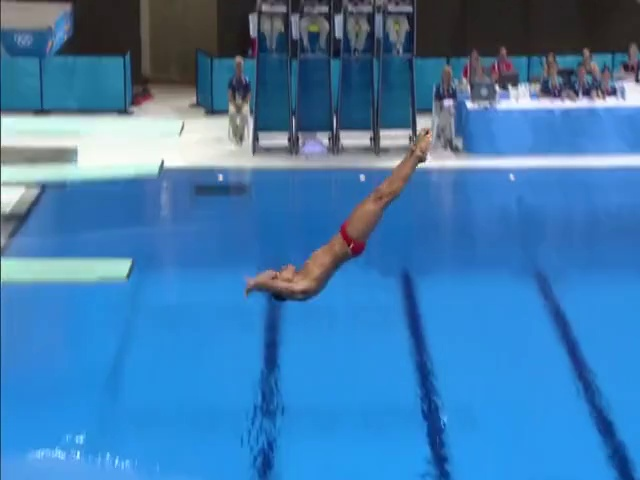diver: (245, 128, 432, 301)
